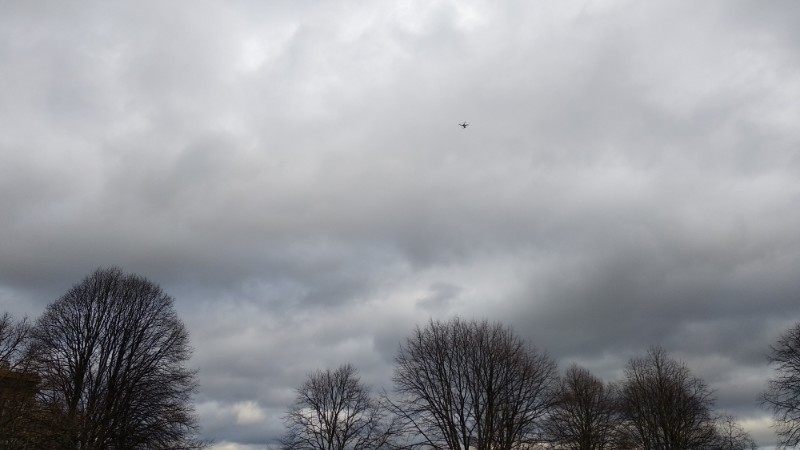drone: (458, 121, 469, 128)
